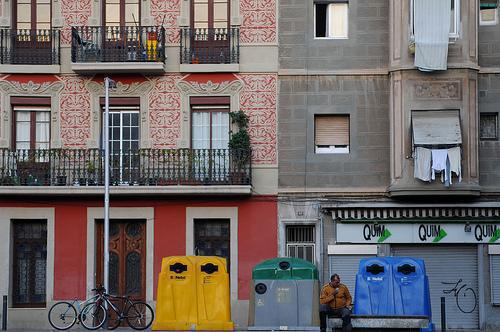Bote de Basura: (246, 259, 316, 328), (151, 255, 193, 330), (194, 254, 234, 331), (391, 255, 428, 329), (356, 257, 392, 327)
